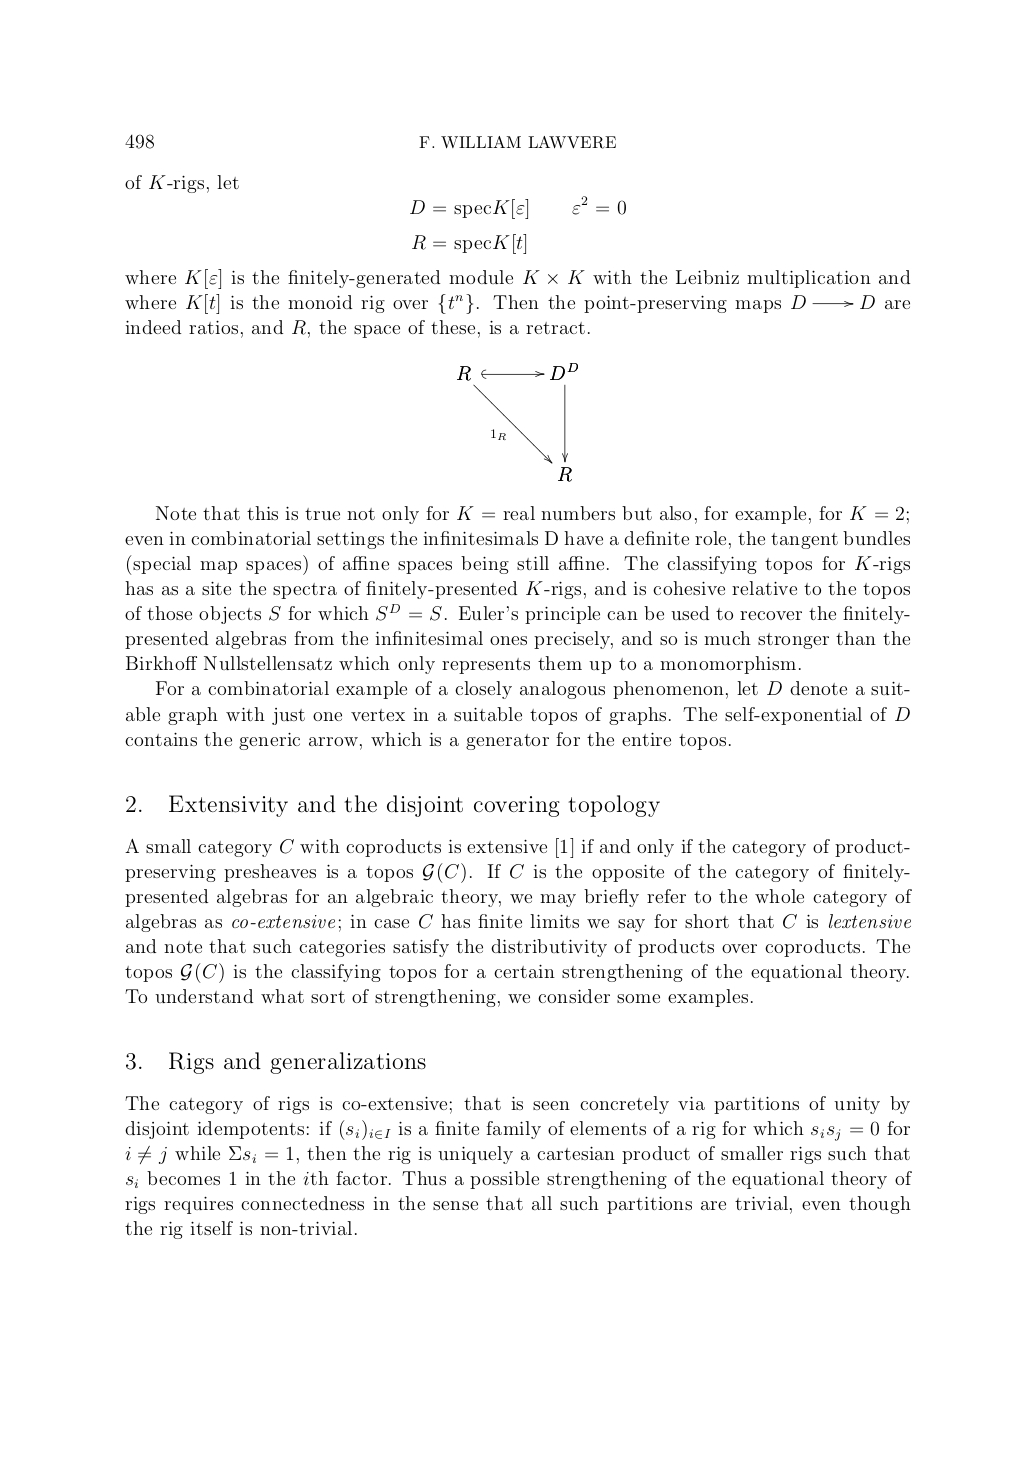figure: (457, 363, 577, 481)
formula: (410, 195, 625, 219), (412, 233, 526, 255)
